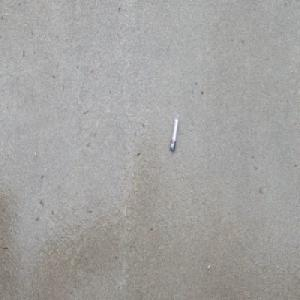Battery: (170, 117, 178, 152)
